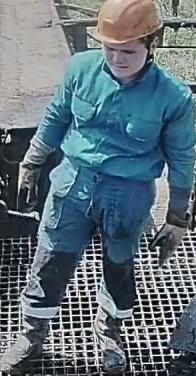gloves: (146, 214, 192, 268), (14, 163, 43, 213)
helmet: (88, 1, 163, 45)
vest: (39, 52, 196, 201)
